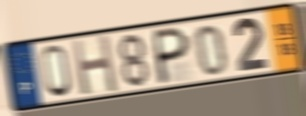0: (192, 22, 231, 77), (40, 44, 73, 100)
2: (232, 15, 271, 75)
8: (116, 32, 152, 90)
H: (70, 33, 120, 98)
P: (153, 24, 192, 86)
